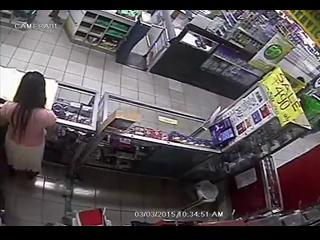Normal: (0, 71, 58, 182)
